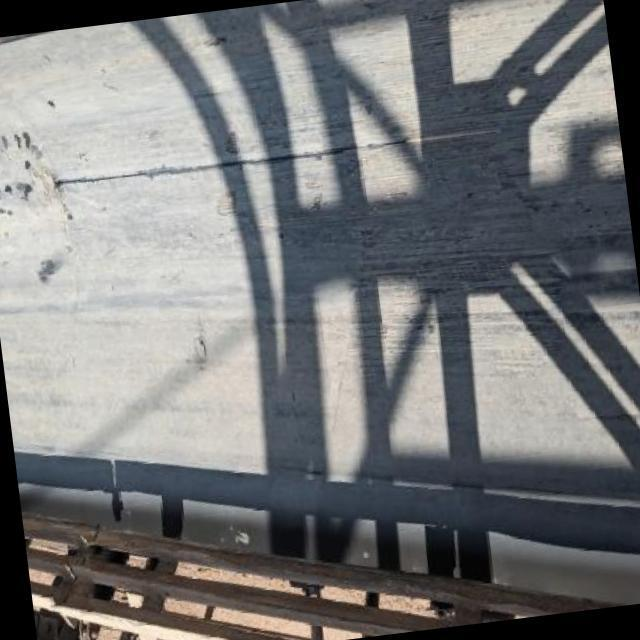Impact Damage: (214, 189, 240, 223), (221, 124, 242, 157)
Tear: (49, 121, 506, 191), (192, 336, 215, 362), (290, 388, 300, 404)
